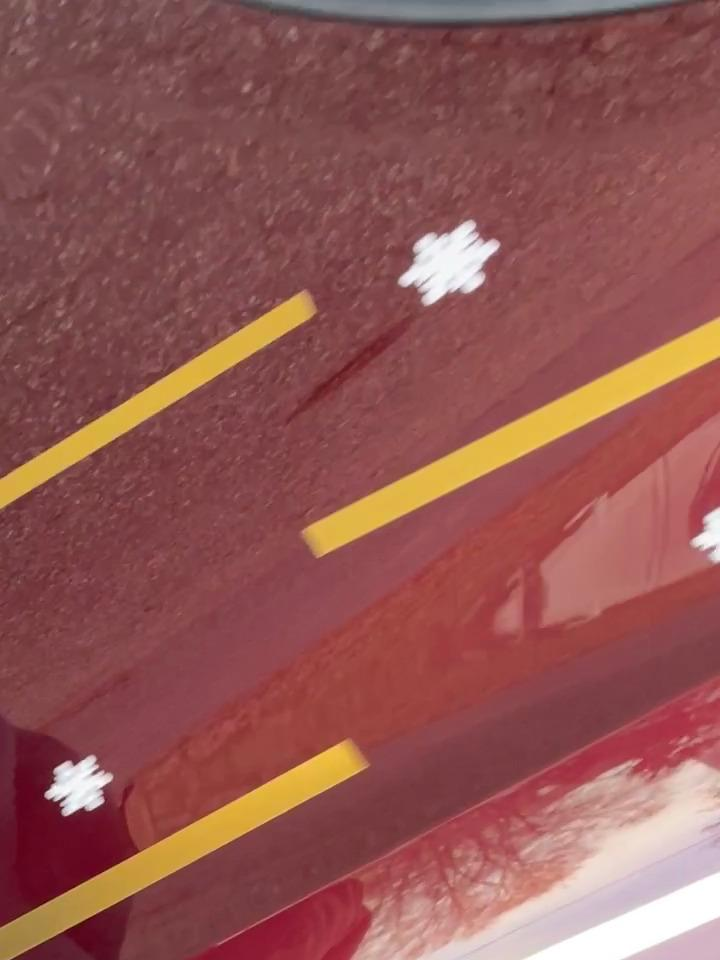dent: (401, 209, 504, 314), (36, 736, 124, 825)
scratch: (0, 281, 332, 710), (291, 311, 720, 559), (0, 731, 381, 960), (0, 845, 720, 960)
